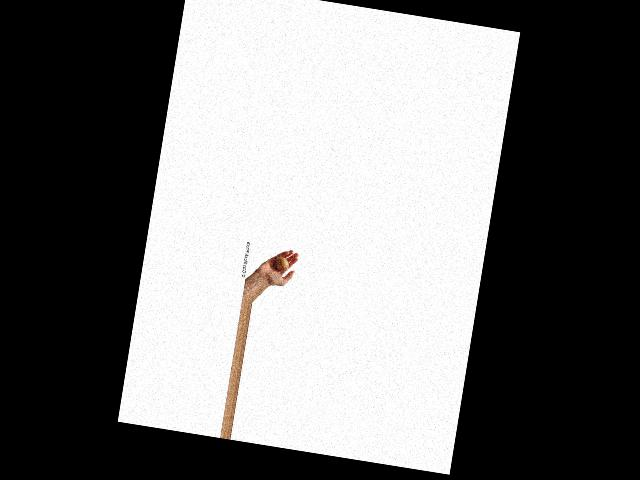egg: (274, 255, 289, 270)
